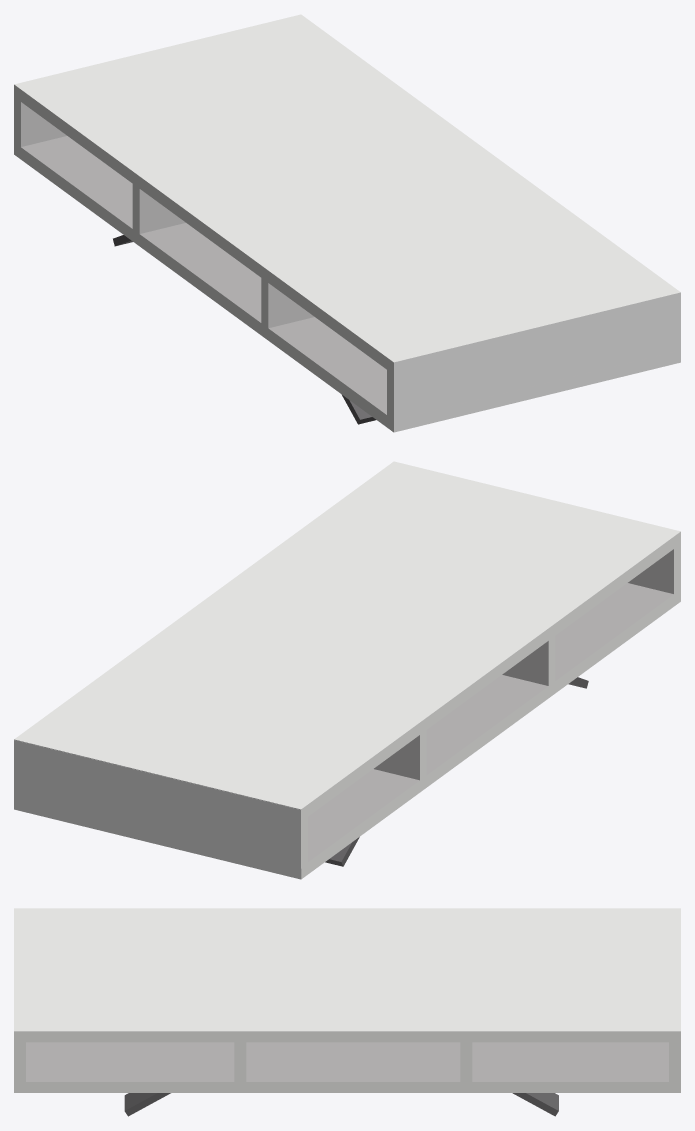
Rendered from white_furniture.obj.
3 renders of one model, top to bottom at view 1: azimuth 30°, elevation 25°; view 2: azimuth 150°, elevation 25°; view 3: azimuth 270°, elevation 25°, orthographic. The views are drawn at different scales.
Parts seen in each view (by area): view 1: pCube4; view 2: pCube4; view 3: pCube4.
Part boxes in pixels (x1=…): pCube4: x1=14, y1=14, x2=680, y2=432; pCube4: x1=14, y1=461, x2=680, y2=879; pCube4: x1=14, y1=908, x2=680, y2=1116.
Size of the model in its own units: 1.4 by 0.5446 by 3.21.
Materials: 5 (5 with a texture image).
